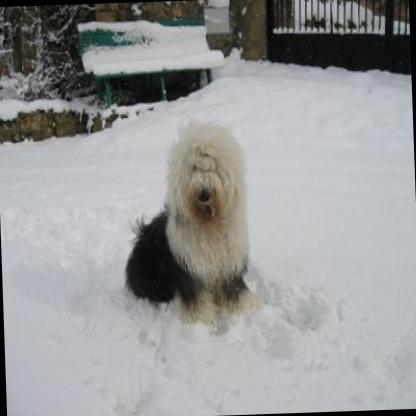Old_English_sheepdog: (120, 116, 264, 327)
